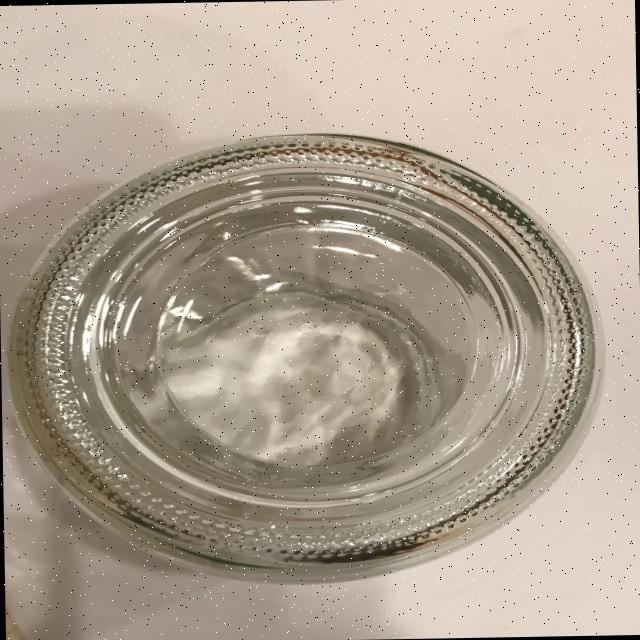glass: (3, 127, 608, 589)
